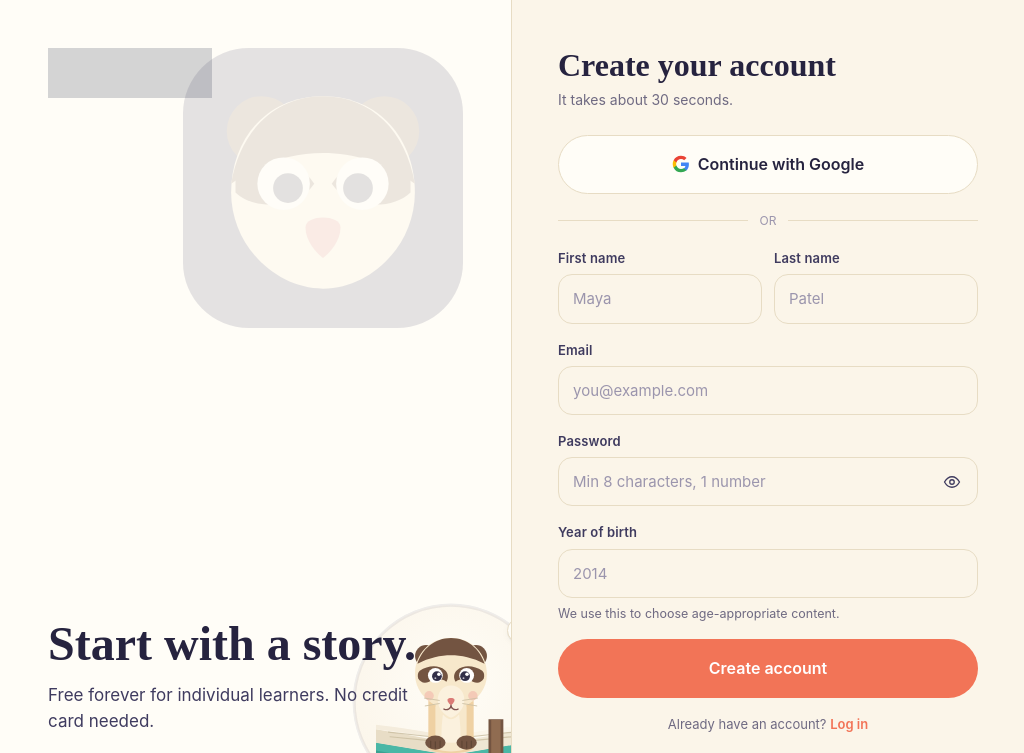
SignupRoute Google sign-in › shows an error when Google signup fails
Step 1. Click the button "Continue with Google" → (768, 164), box x1=558 y1=135 x2=978 y2=194
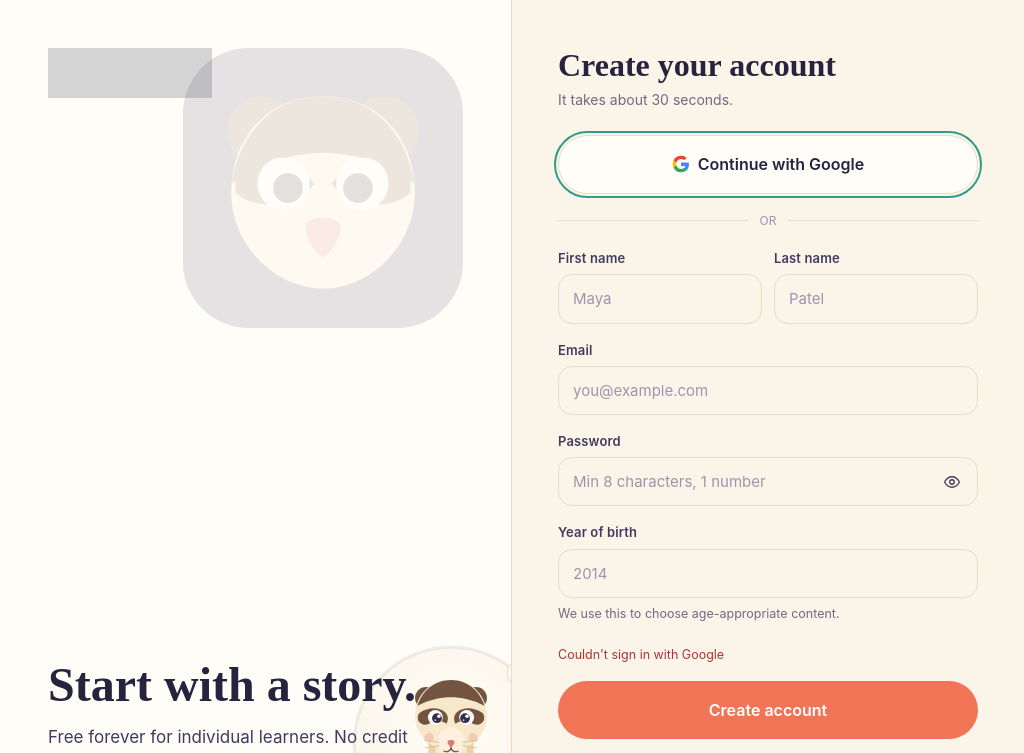
Expected: the text "Couldn't sign in with Google" is shown, x1=558 y1=647 x2=724 y2=662
